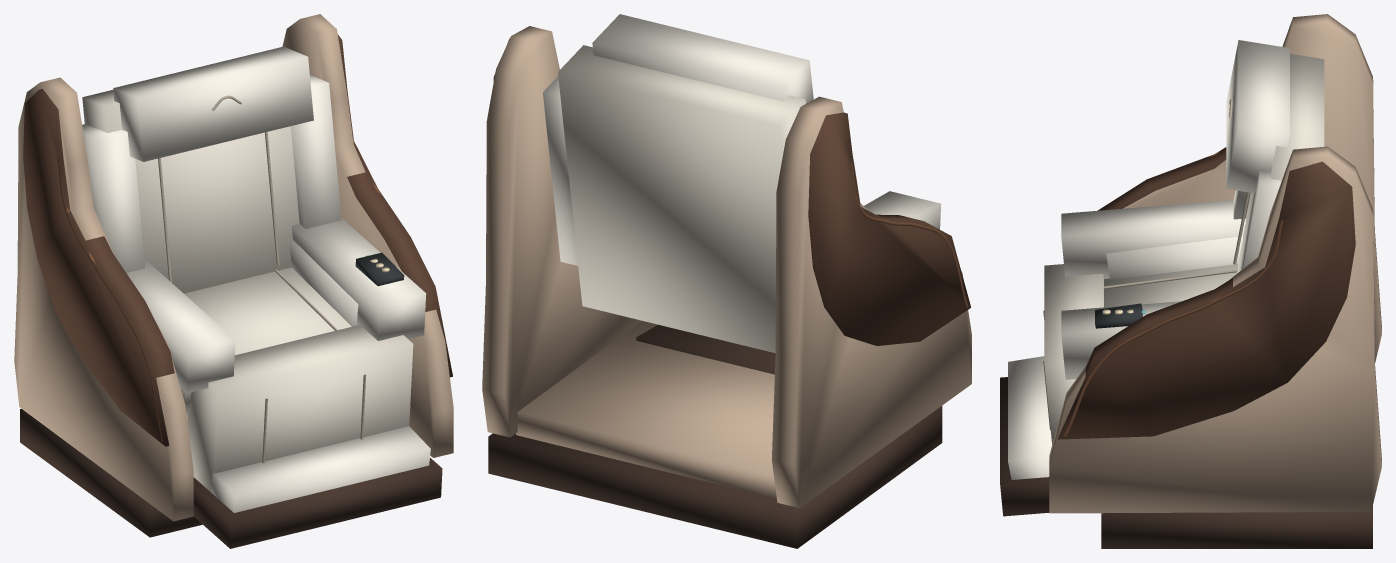
Rendered from massage_chair_model.glb.
3 renders of one model, left to right at view 1: azimuth 30°, elevation 25°; view 2: azimuth 150°, elevation 25°; view 3: azimuth 270°, elevation 25°, orthographic. The views are drawn at different scales.
Parts seen in each view (by area): view 1: Taupe side shell L, Calf cushion, Back cushion, Walnut wave side panel L, Head pillow, Taupe side shell R, Foot cushion, Footrest dark support, Seat cushion, Armrest outer R, Armrest outer L, Shoulder wing L (+6 smaller); view 2: Back cushion, Taupe side shell L, Taupe side shell R, Base champagne trim, Walnut wave side panel L, Base platform, Head pillow, Shoulder wing R, Footrest dark support, Armrest outer L, Shell wave piping L; view 3: Taupe side shell R, Walnut wave side panel R, Taupe side shell L, Base platform, Armrest outer L, Head pillow, Foot cushion, Calf cushion, Back cushion, Seat side bolster L, Seat cushion, Armrest outer R (+5 smaller).
Part boxes in pixels (box(x1,y1,x2,y2)): Taupe side shell L: box(14, 77, 193, 521); Calf cushion: box(187, 325, 413, 491); Back cushion: box(82, 90, 299, 293); Walnut wave side panel L: box(23, 89, 174, 446); Head pillow: box(113, 46, 313, 161); Taupe side shell R: box(282, 14, 453, 457); Foot cushion: box(211, 426, 430, 512); Footrest dark support: box(193, 457, 442, 548); Seat cushion: box(181, 267, 351, 413); Armrest outer R: box(291, 218, 426, 340); Armrest outer L: box(126, 261, 235, 392); Shoulder wing L: box(82, 124, 145, 272); Back cushion: box(558, 45, 805, 353); Taupe side shell L: box(772, 96, 971, 508); Taupe side shell R: box(482, 26, 641, 437); Base champagne trim: box(516, 321, 776, 498); Walnut wave side panel L: box(808, 112, 970, 345); Base platform: box(488, 406, 942, 548); Head pillow: box(592, 14, 813, 103); Shoulder wing R: box(543, 76, 577, 265); Footrest dark support: box(636, 324, 775, 374); Armrest outer L: box(864, 191, 941, 229); Shell wave piping L: box(850, 161, 968, 307); Taupe side shell R: box(1049, 146, 1381, 513); Walnut wave side panel R: box(1058, 161, 1355, 439); Taupe side shell L: box(1123, 14, 1381, 362); Base platform: box(1101, 506, 1372, 548); Armrest outer L: box(1061, 200, 1245, 278); Head pillow: box(1226, 40, 1289, 193); Foot cushion: box(1008, 356, 1051, 479); Calf cushion: box(1044, 264, 1103, 444); Back cushion: box(1238, 53, 1324, 272); Seat side bolster L: box(1106, 236, 1242, 280); Seat cushion: box(1104, 264, 1237, 307); Armrest outer R: box(1061, 301, 1181, 379).
Size of the model in its own units: 2 by 2.5 by 2.19.
